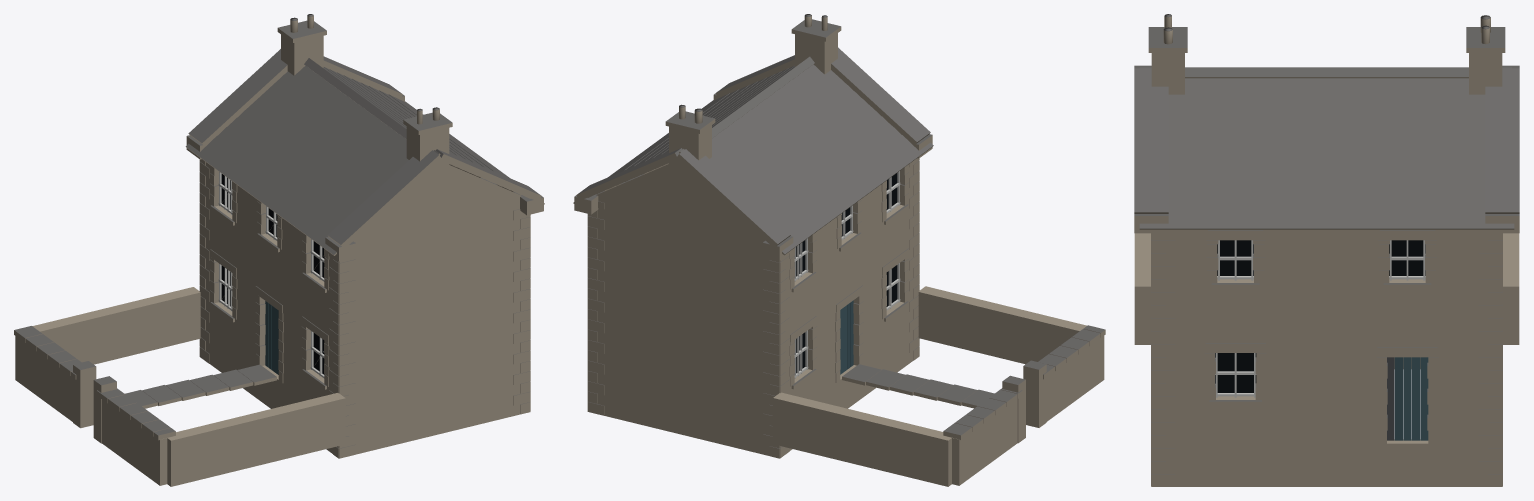
The model's file is context.dales.house_23.glb.
3 views of the same model, side by side, from view 1: azimuth 30°, elevation 25°; view 2: azimuth 150°, elevation 25°; view 3: azimuth 270°, elevation 25° (orthographic). The views are drawn at different scales.
Visible parts, largest first — view 1: main__stone_a98, main__slate_666, main__paint_ccc, main__glass_dark, main__paint_456; view 2: main__stone_a98, main__slate_666, main__paint_ccc, main__glass_dark; view 3: main__stone_a98, main__slate_666, main__glass_dark, main__paint_456, main__paint_ccc, main__paint_355, main__paint_455.
Boxes of the visible parts, left/top/right/bottom form: main__stone_a98: left=14, top=16, right=544, bottom=486; main__slate_666: left=14, top=14, right=543, bottom=448; main__paint_ccc: left=218, top=172, right=324, bottom=378; main__glass_dark: left=221, top=174, right=324, bottom=374; main__paint_456: left=265, top=301, right=277, bottom=374; main__stone_a98: left=573, top=16, right=1105, bottom=486; main__slate_666: left=574, top=14, right=1105, bottom=448; main__paint_ccc: left=794, top=171, right=900, bottom=378; main__glass_dark: left=796, top=173, right=897, bottom=373; main__stone_a98: left=1134, top=16, right=1519, bottom=486; main__slate_666: left=1134, top=14, right=1519, bottom=474; main__glass_dark: left=1215, top=240, right=1425, bottom=392; main__paint_456: left=1403, top=357, right=1428, bottom=440; main__paint_ccc: left=1215, top=240, right=1425, bottom=397; main__paint_355: left=1394, top=357, right=1402, bottom=440; main__paint_455: left=1387, top=357, right=1394, bottom=440.
Bounding box in the file's own units: 11.74 × 9.4 × 8.06.
